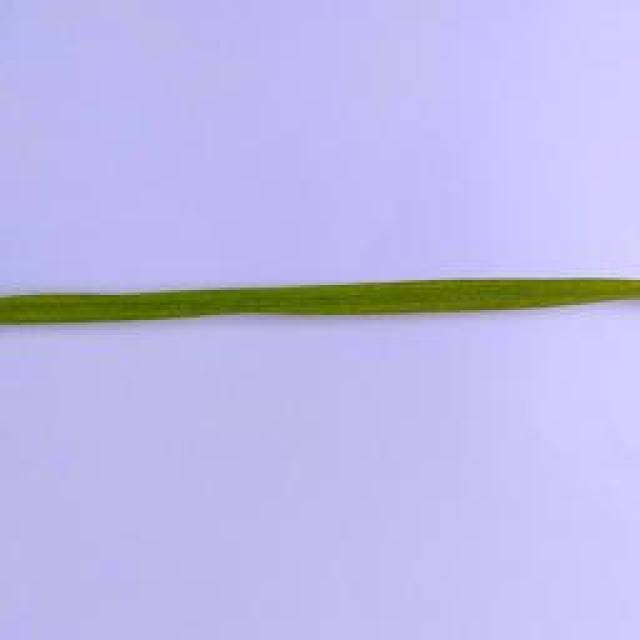Healthy-Plant: (0, 260, 640, 355)
